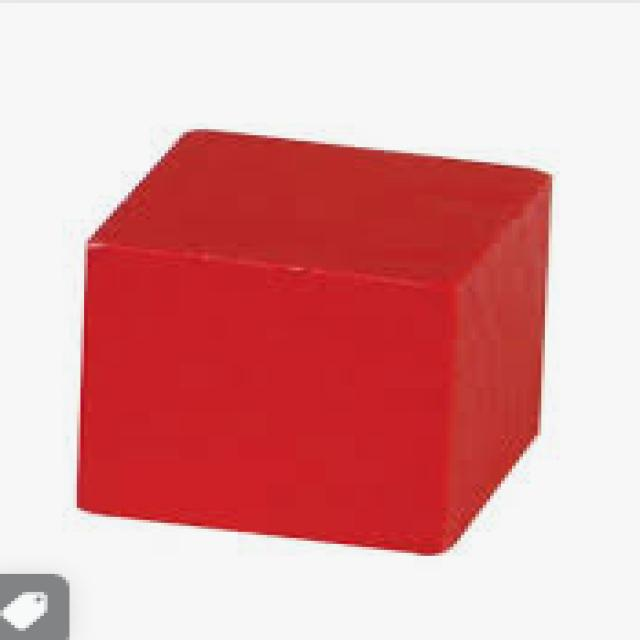red cube: (76, 123, 557, 559)
